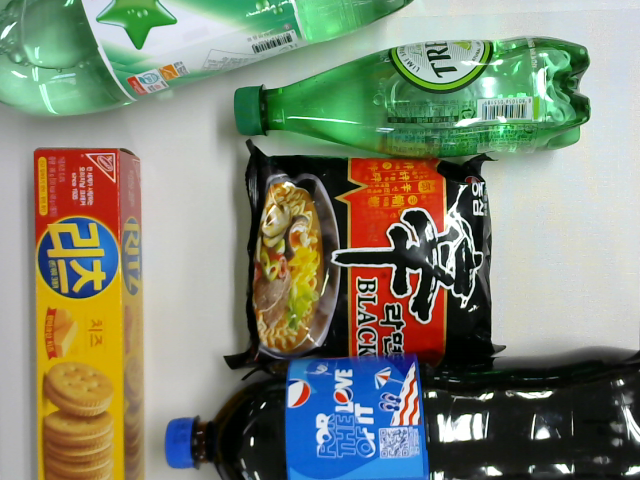Chilseong_Cider_1.5L: (3, 1, 414, 119)
Pepsi_Cola_1.5L: (161, 339, 640, 480)
Ritz_Sand_Cracker: (27, 144, 145, 480)
Sinramen_Black: (221, 137, 508, 375)
Treviraim_500ml: (232, 34, 592, 165)
